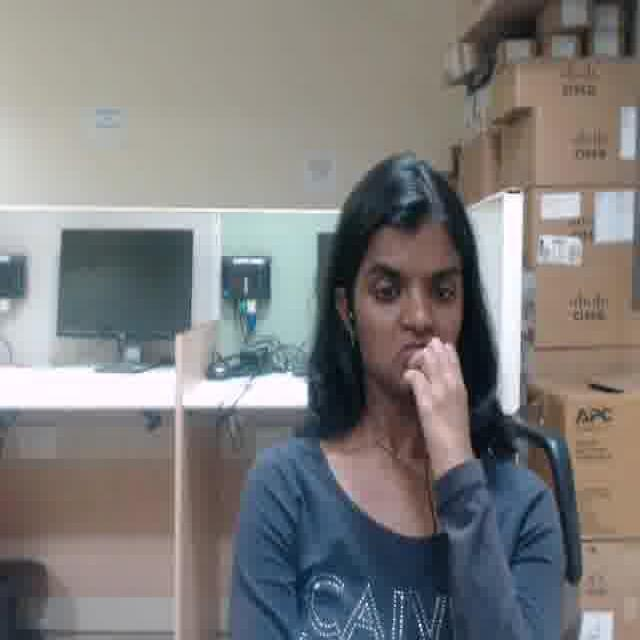Frustration: (356, 224, 462, 403)
